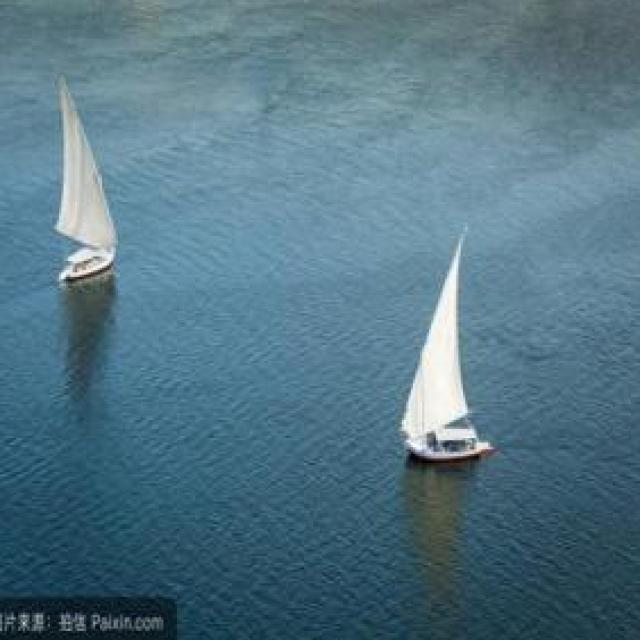sailboat: (403, 219, 502, 456), (44, 69, 128, 284)
